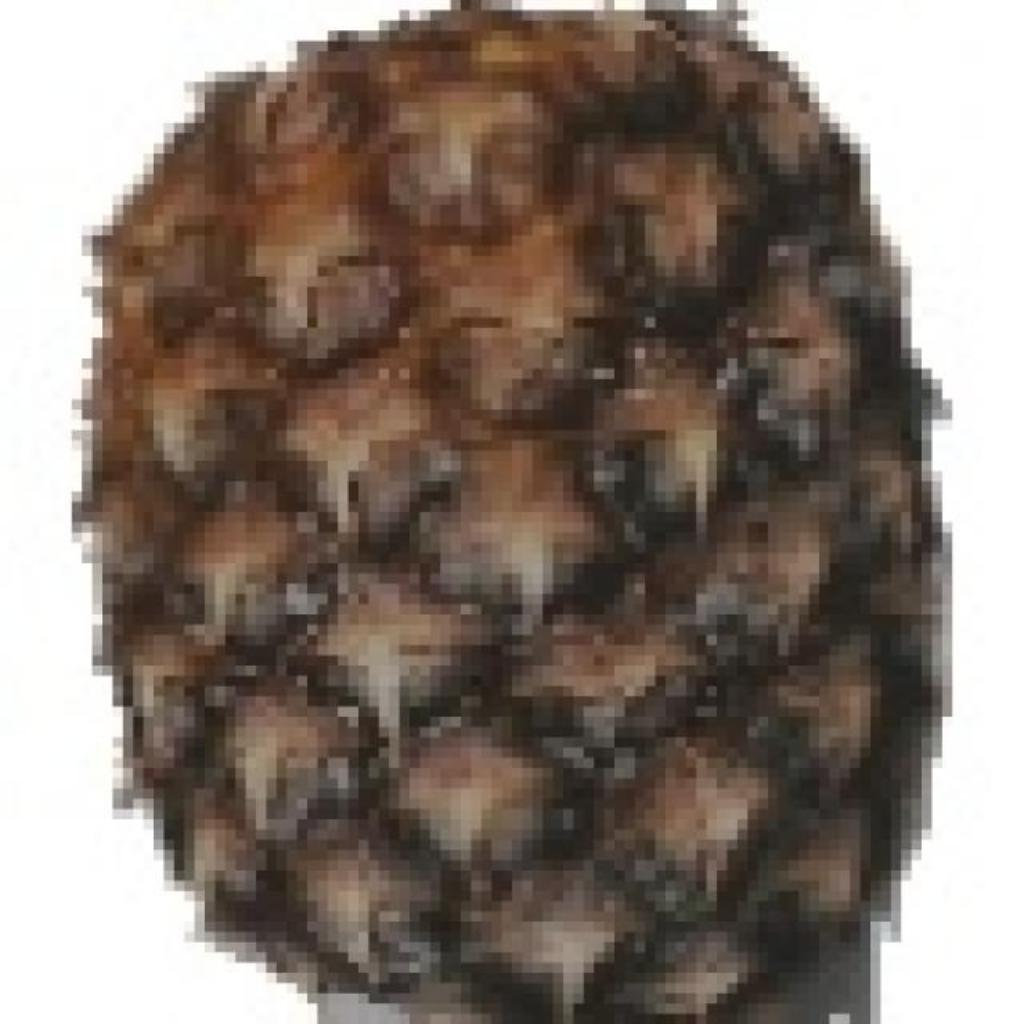pineapple: (80, 0, 944, 1024)
